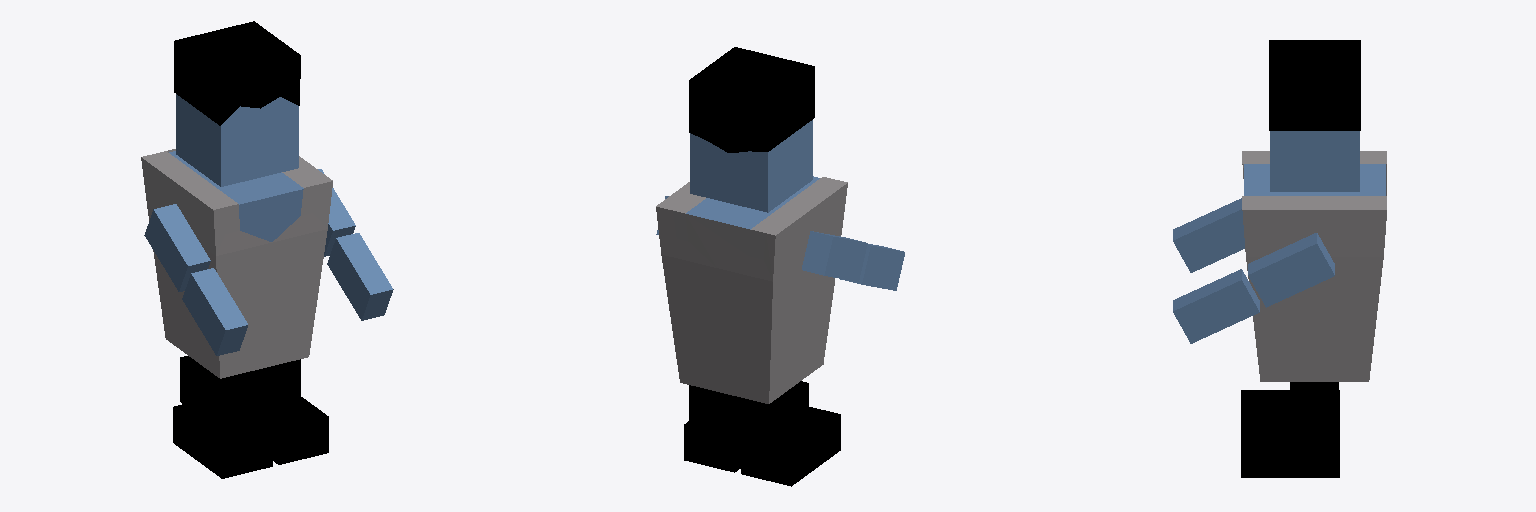
The model's file is zomb.obj.
3 views of the same model, side by side, from view 1: azimuth 30°, elevation 25°; view 2: azimuth 150°, elevation 25°; view 3: azimuth 270°, elevation 25° (orthographic).
Visible parts, largest first — view 1: Cube.012, Cube.010, Cube.001, Cube.004, Cube, Cube.005, Cube.007, Cube.008, Cube.009, Cube.002, Cube.003, Cube.006; view 2: Cube.012, Cube.010, Cube.001, Cube.004, Cube.002, Cube.009, Cube.005, Cube.003, Cube.008, Cube; view 3: Cube.012, Cube.010, Cube.001, Cube.005, Cube.006, Cube.007, Cube.008, Cube.003, Cube, Cube.004.
Boxes of the visible parts, x1,y1,x2,y2 form: Cube.012: [141, 149, 332, 378]; Cube.010: [174, 21, 300, 125]; Cube.001: [176, 94, 298, 186]; Cube.004: [173, 404, 272, 478]; Cube: [169, 151, 303, 241]; Cube.005: [245, 397, 328, 464]; Cube.007: [327, 233, 393, 320]; Cube.008: [182, 268, 247, 355]; Cube.009: [144, 204, 210, 291]; Cube.002: [180, 356, 246, 419]; Cube.003: [247, 359, 300, 406]; Cube.006: [318, 169, 355, 256]; Cube.012: [656, 177, 847, 403]; Cube.010: [689, 47, 814, 152]; Cube.001: [690, 120, 812, 212]; Cube.004: [741, 407, 840, 486]; Cube.002: [742, 381, 808, 445]; Cube.009: [802, 231, 867, 281]; Cube.005: [684, 421, 742, 472]; Cube.003: [689, 385, 741, 431]; Cube.008: [840, 244, 904, 290]; Cube: [686, 176, 819, 229]; Cube.012: [1242, 151, 1386, 381]; Cube.010: [1269, 40, 1360, 130]; Cube.001: [1270, 131, 1359, 191]; Cube.005: [1241, 417, 1339, 477]; Cube.006: [1248, 233, 1334, 307]; Cube.007: [1173, 269, 1259, 343]; Cube.008: [1173, 198, 1244, 272]; Cube.003: [1290, 382, 1338, 436]; Cube: [1244, 164, 1385, 195]; Cube.004: [1241, 390, 1339, 416].
Bounding box in the file's own units: 0.4994 × 1.11 × 0.553.